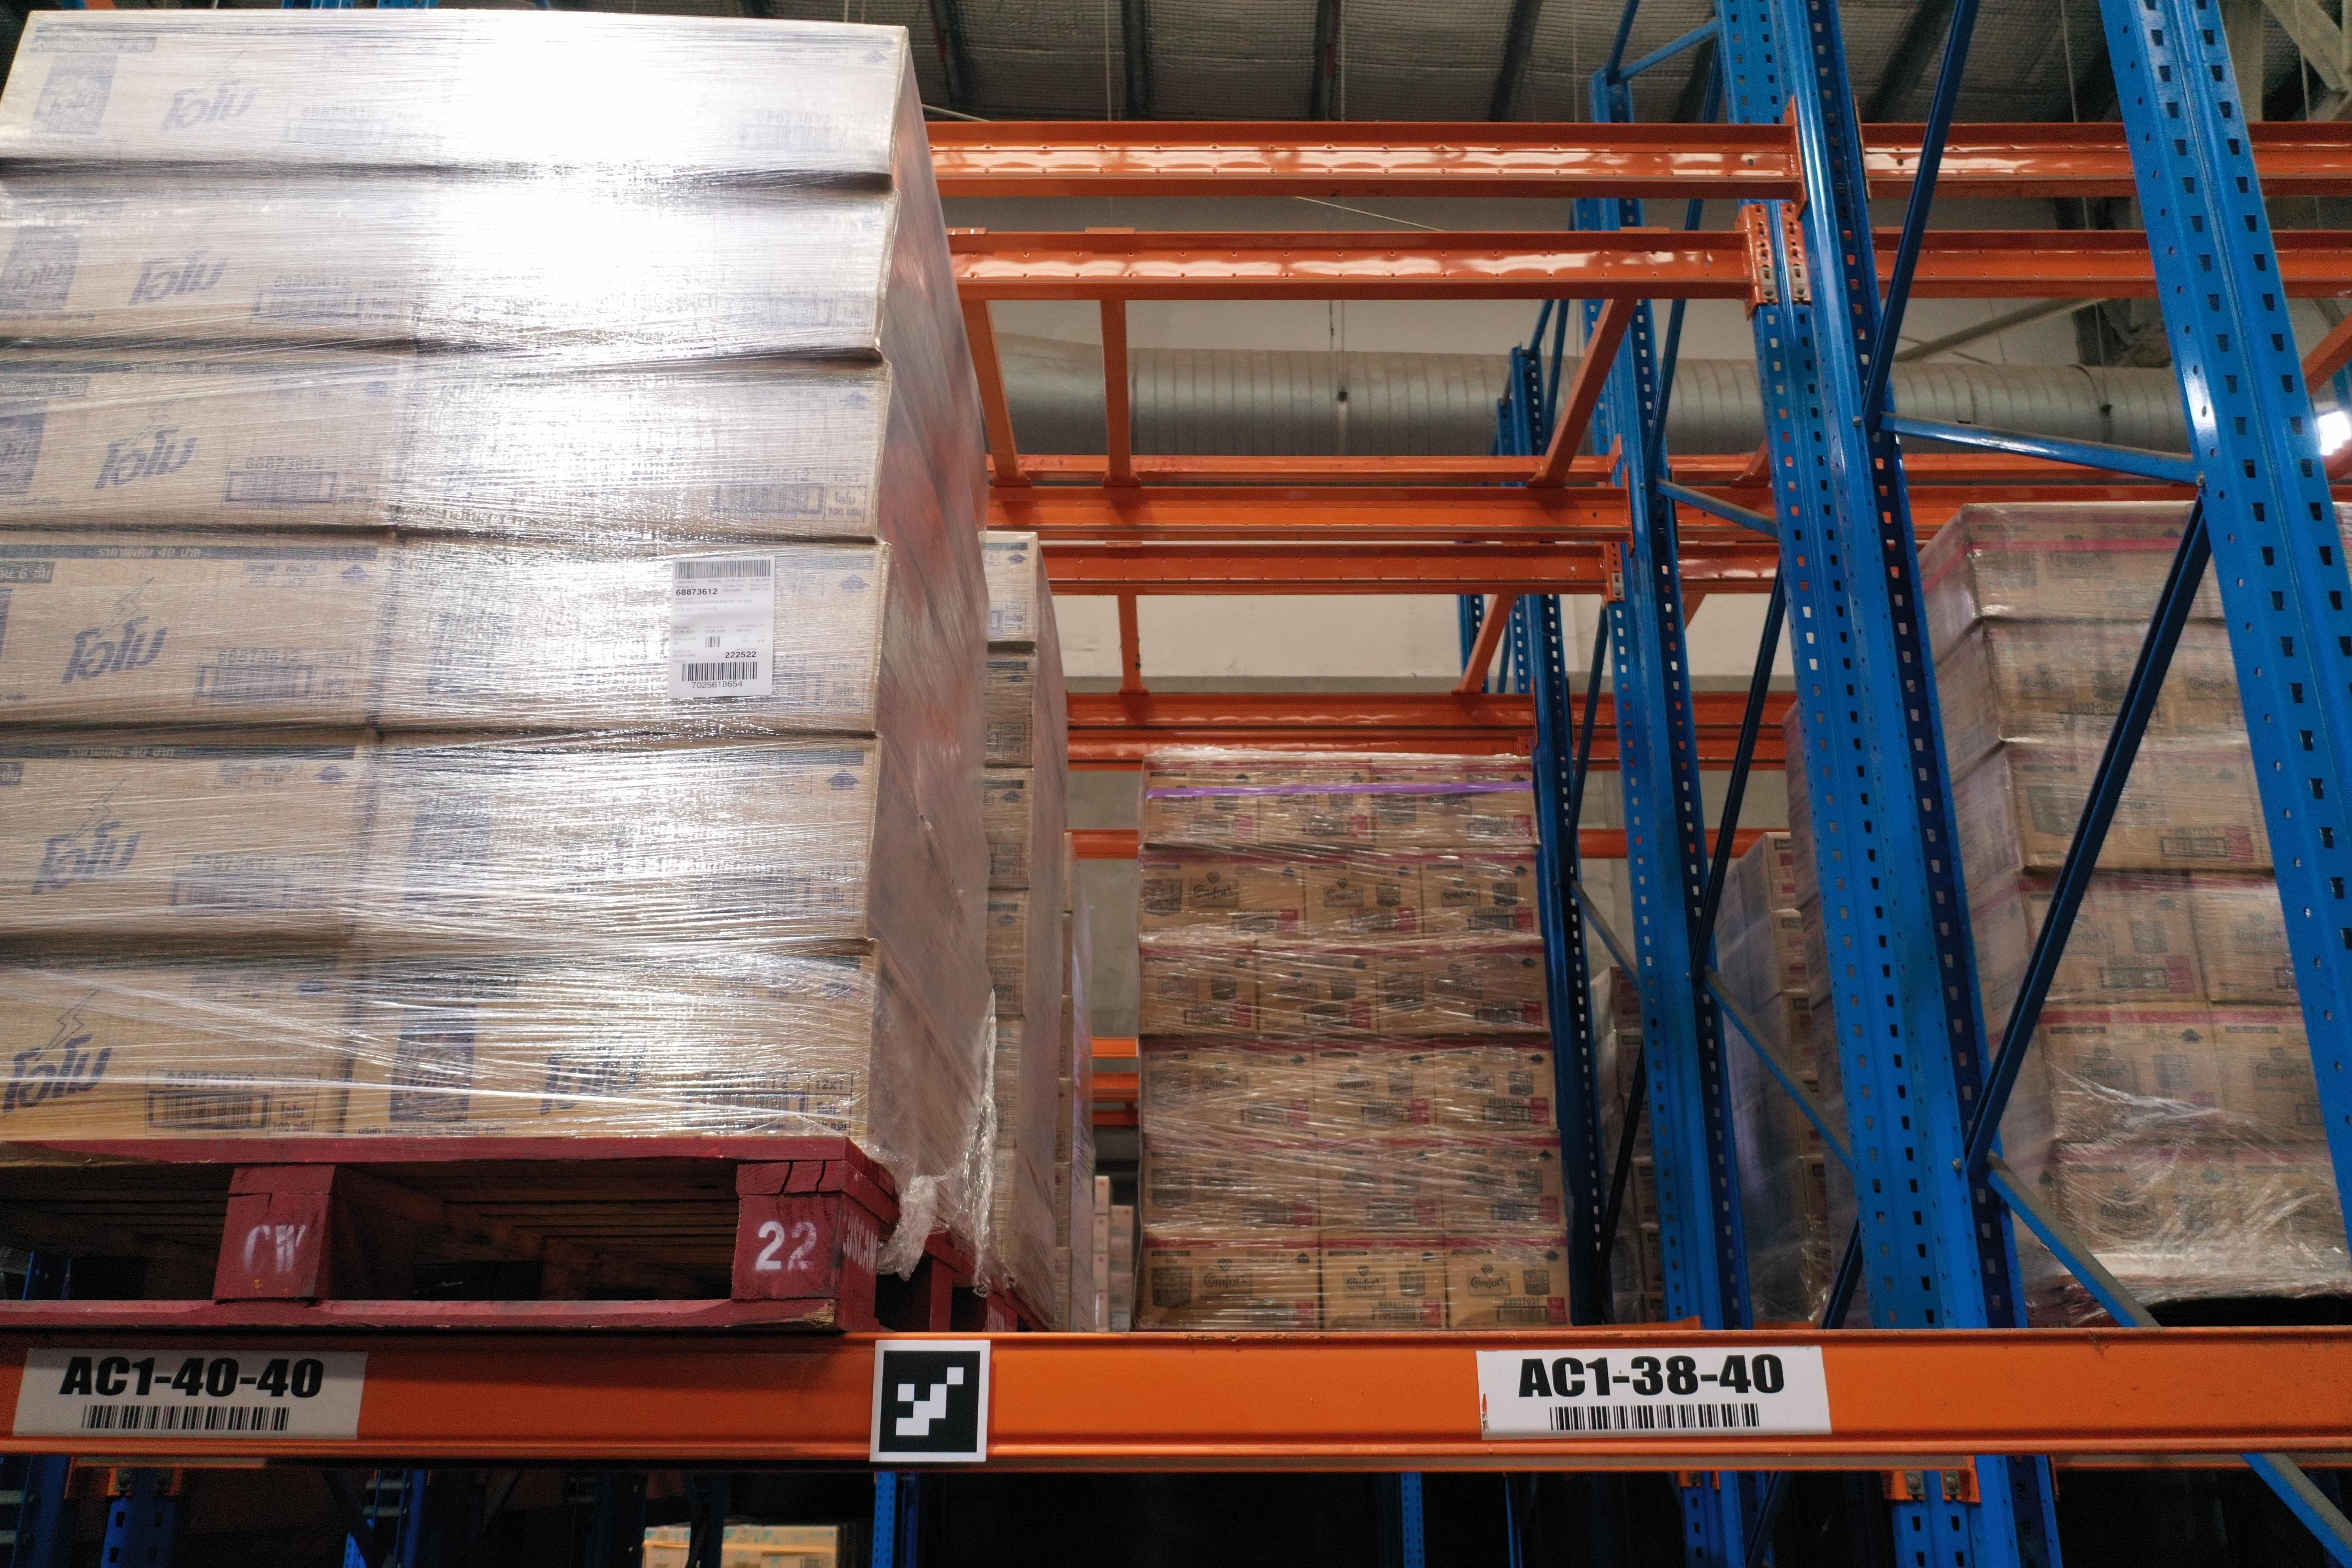-: (350, 731, 878, 948), (339, 943, 878, 1153), (374, 535, 889, 737), (395, 350, 892, 541), (415, 173, 901, 357), (0, 724, 376, 945), (0, 528, 402, 733), (0, 341, 423, 534), (436, 9, 912, 177), (0, 166, 443, 343), (0, 9, 458, 171), (0, 943, 369, 1141)
2: (1139, 1036, 1318, 1143), (1141, 1234, 1321, 1335), (1143, 1139, 1319, 1241), (1377, 943, 1547, 1043), (1137, 849, 1311, 945), (1368, 752, 1538, 850), (1438, 1132, 1568, 1235), (1311, 1043, 1438, 1146), (1442, 1234, 1575, 1328), (1435, 1038, 1557, 1139), (1255, 945, 1379, 1045), (1316, 1141, 1444, 1237), (1304, 849, 1424, 950), (1421, 849, 1542, 950), (1260, 747, 1377, 850), (1319, 1241, 1449, 1332), (1139, 940, 1256, 1038), (1146, 752, 1260, 849)
box: (2005, 735, 2264, 870), (1960, 497, 2208, 623), (2039, 999, 2235, 1143), (2054, 1139, 2249, 1281), (2016, 873, 2208, 1010), (1981, 623, 2161, 745), (2207, 997, 2329, 1146), (2229, 1141, 2352, 1281), (2189, 870, 2299, 1004), (2138, 616, 2245, 742)
